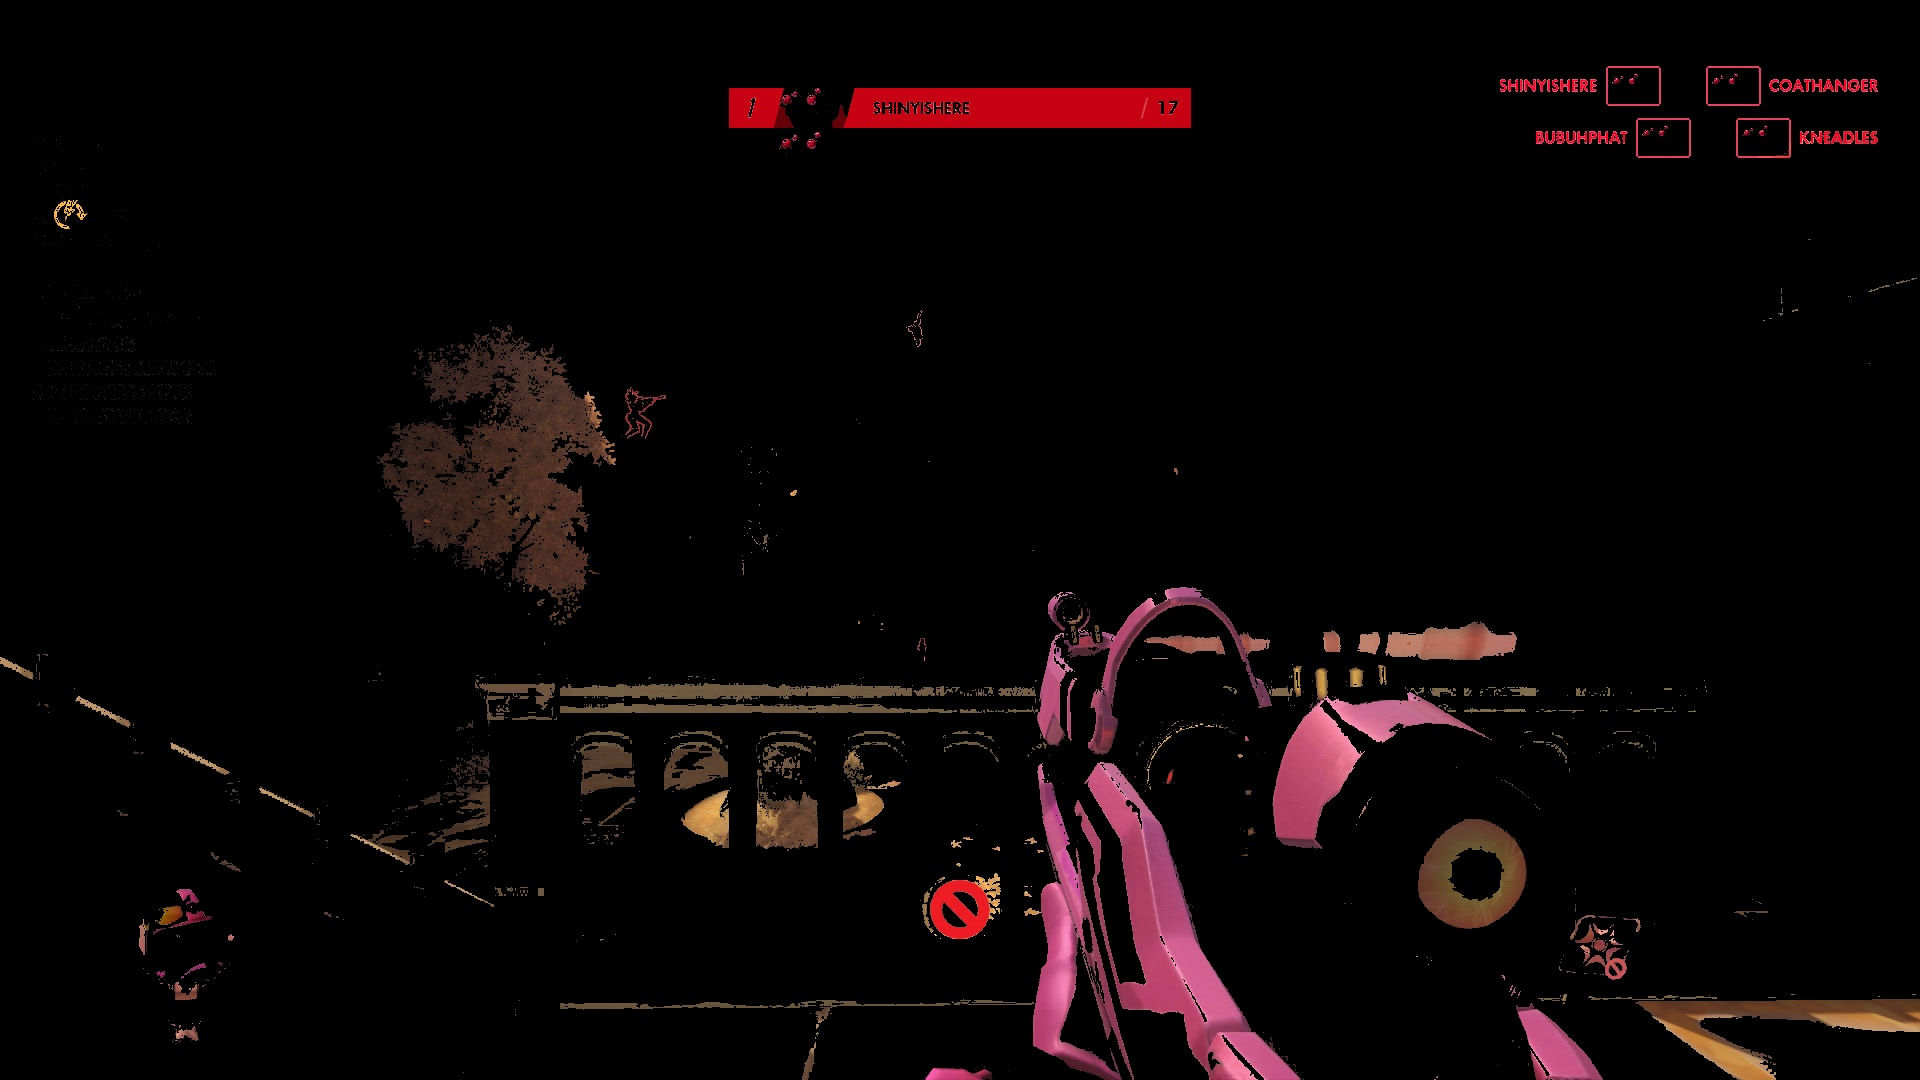widowmaker: (622, 386, 653, 440), (910, 320, 924, 348), (916, 637, 928, 659)
